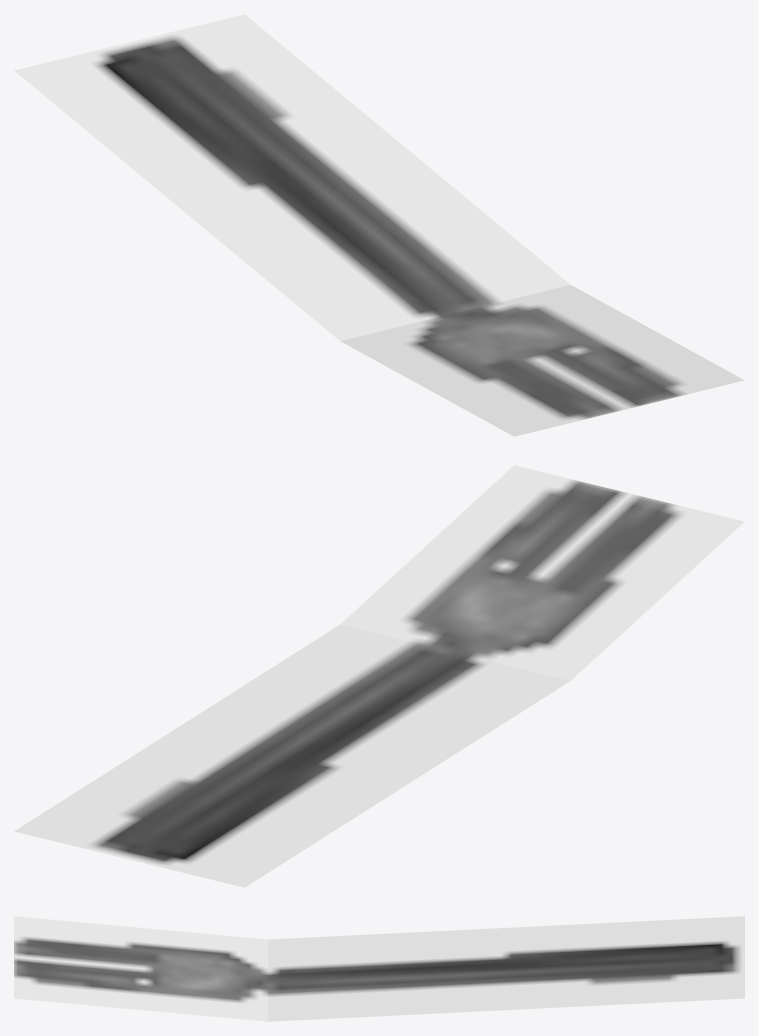
The model's file is Fork.fbx.
3 views of the same model, one above another, from view 1: azimuth 30°, elevation 25°; view 2: azimuth 150°, elevation 25°; view 3: azimuth 270°, elevation 25° (orthographic). The views are drawn at different scales.
Parts seen in each view (by area): view 1: Fork; view 2: Fork; view 3: Fork.
Boxes of the visible parts, x1=… form: Fork: x1=14, y1=14, x2=744, y2=436; Fork: x1=14, y1=465, x2=744, y2=887; Fork: x1=14, y1=916, x2=744, y2=1021.
Bounding box in the file's own units: 4.65 × 0.6126 × 17.45.
